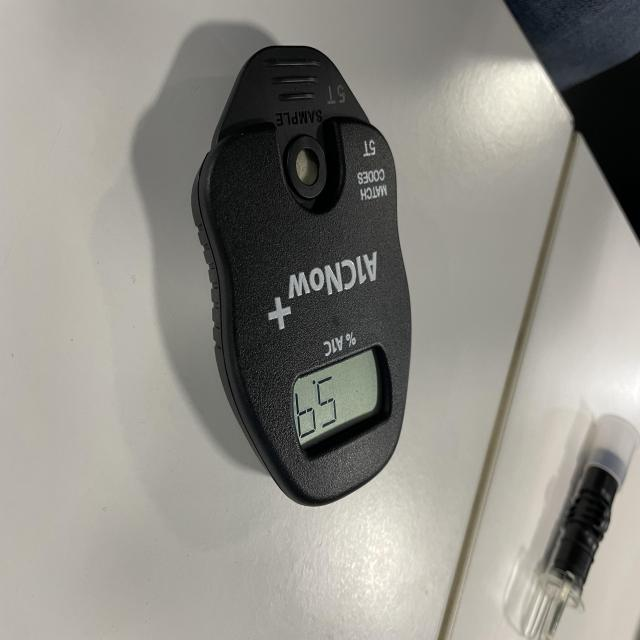hba1c: (191, 45, 413, 509)
